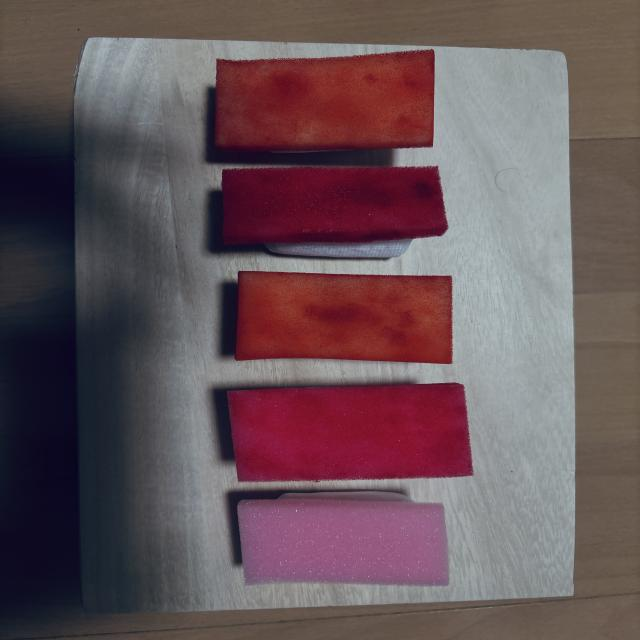maguro: (228, 383, 473, 481), (222, 167, 448, 257)
salmon: (215, 50, 434, 152), (236, 271, 452, 363)
tai: (238, 491, 449, 585)
